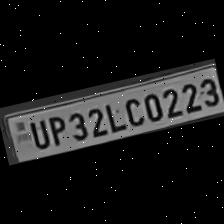0: (138, 90, 164, 124)
2: (158, 84, 184, 121), (82, 103, 108, 139), (176, 80, 202, 116)
3: (63, 107, 89, 144), (196, 74, 220, 110)
C: (120, 94, 145, 130)
L: (101, 98, 126, 134)
P: (44, 112, 69, 148)
U: (24, 117, 50, 152)
